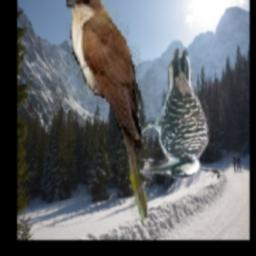Cuckoo: (64, 0, 148, 220)
Woodpecker: (121, 48, 212, 179)
